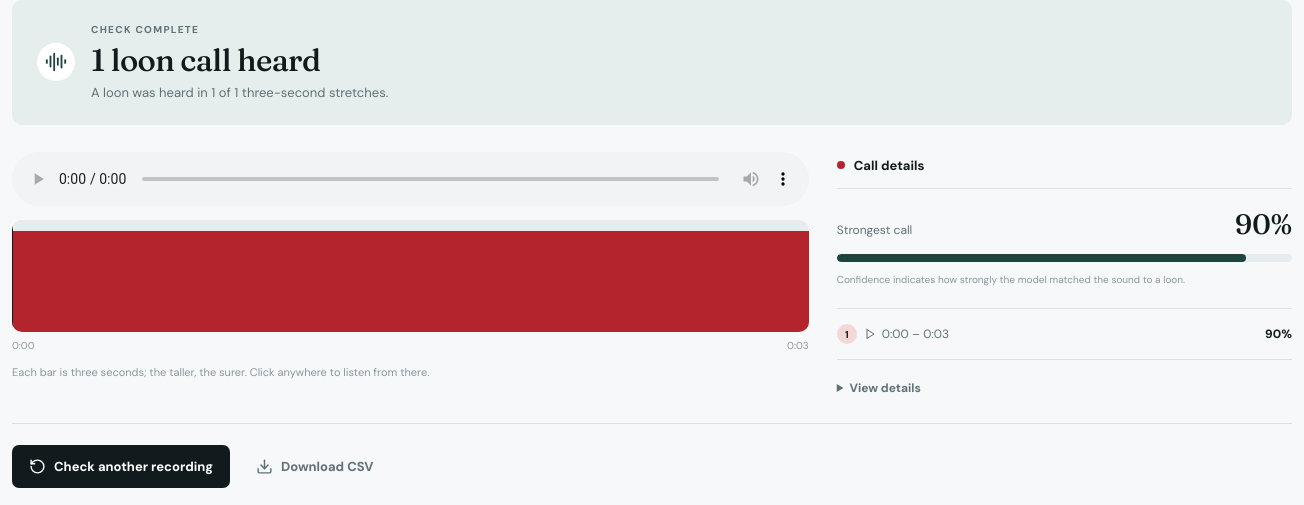
Test: when the recording cannot be played here › stops offering playback if playing fails
Click the button named "Play call 1": (847, 334) [837, 316, 1292, 352]
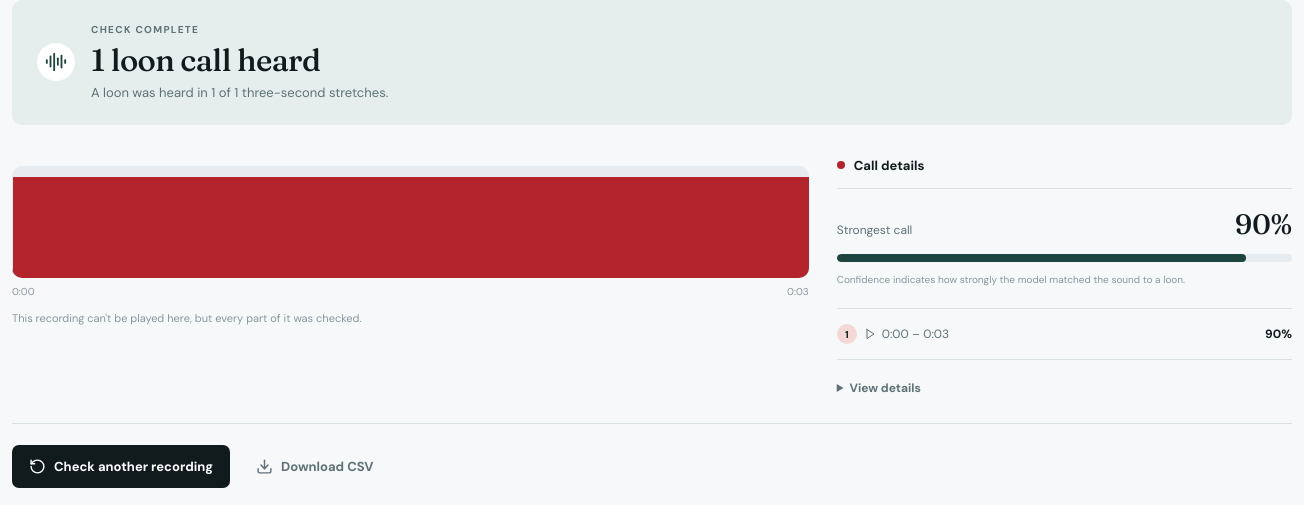
expect the text "can't be played here" is shown: met, box [12, 310, 362, 324]
